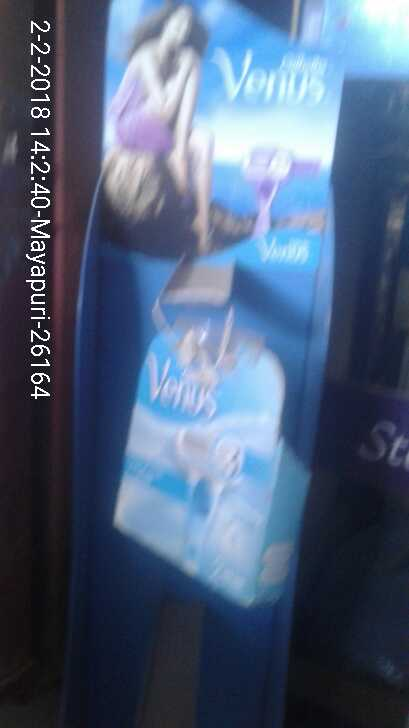venus: (106, 314, 326, 618)
